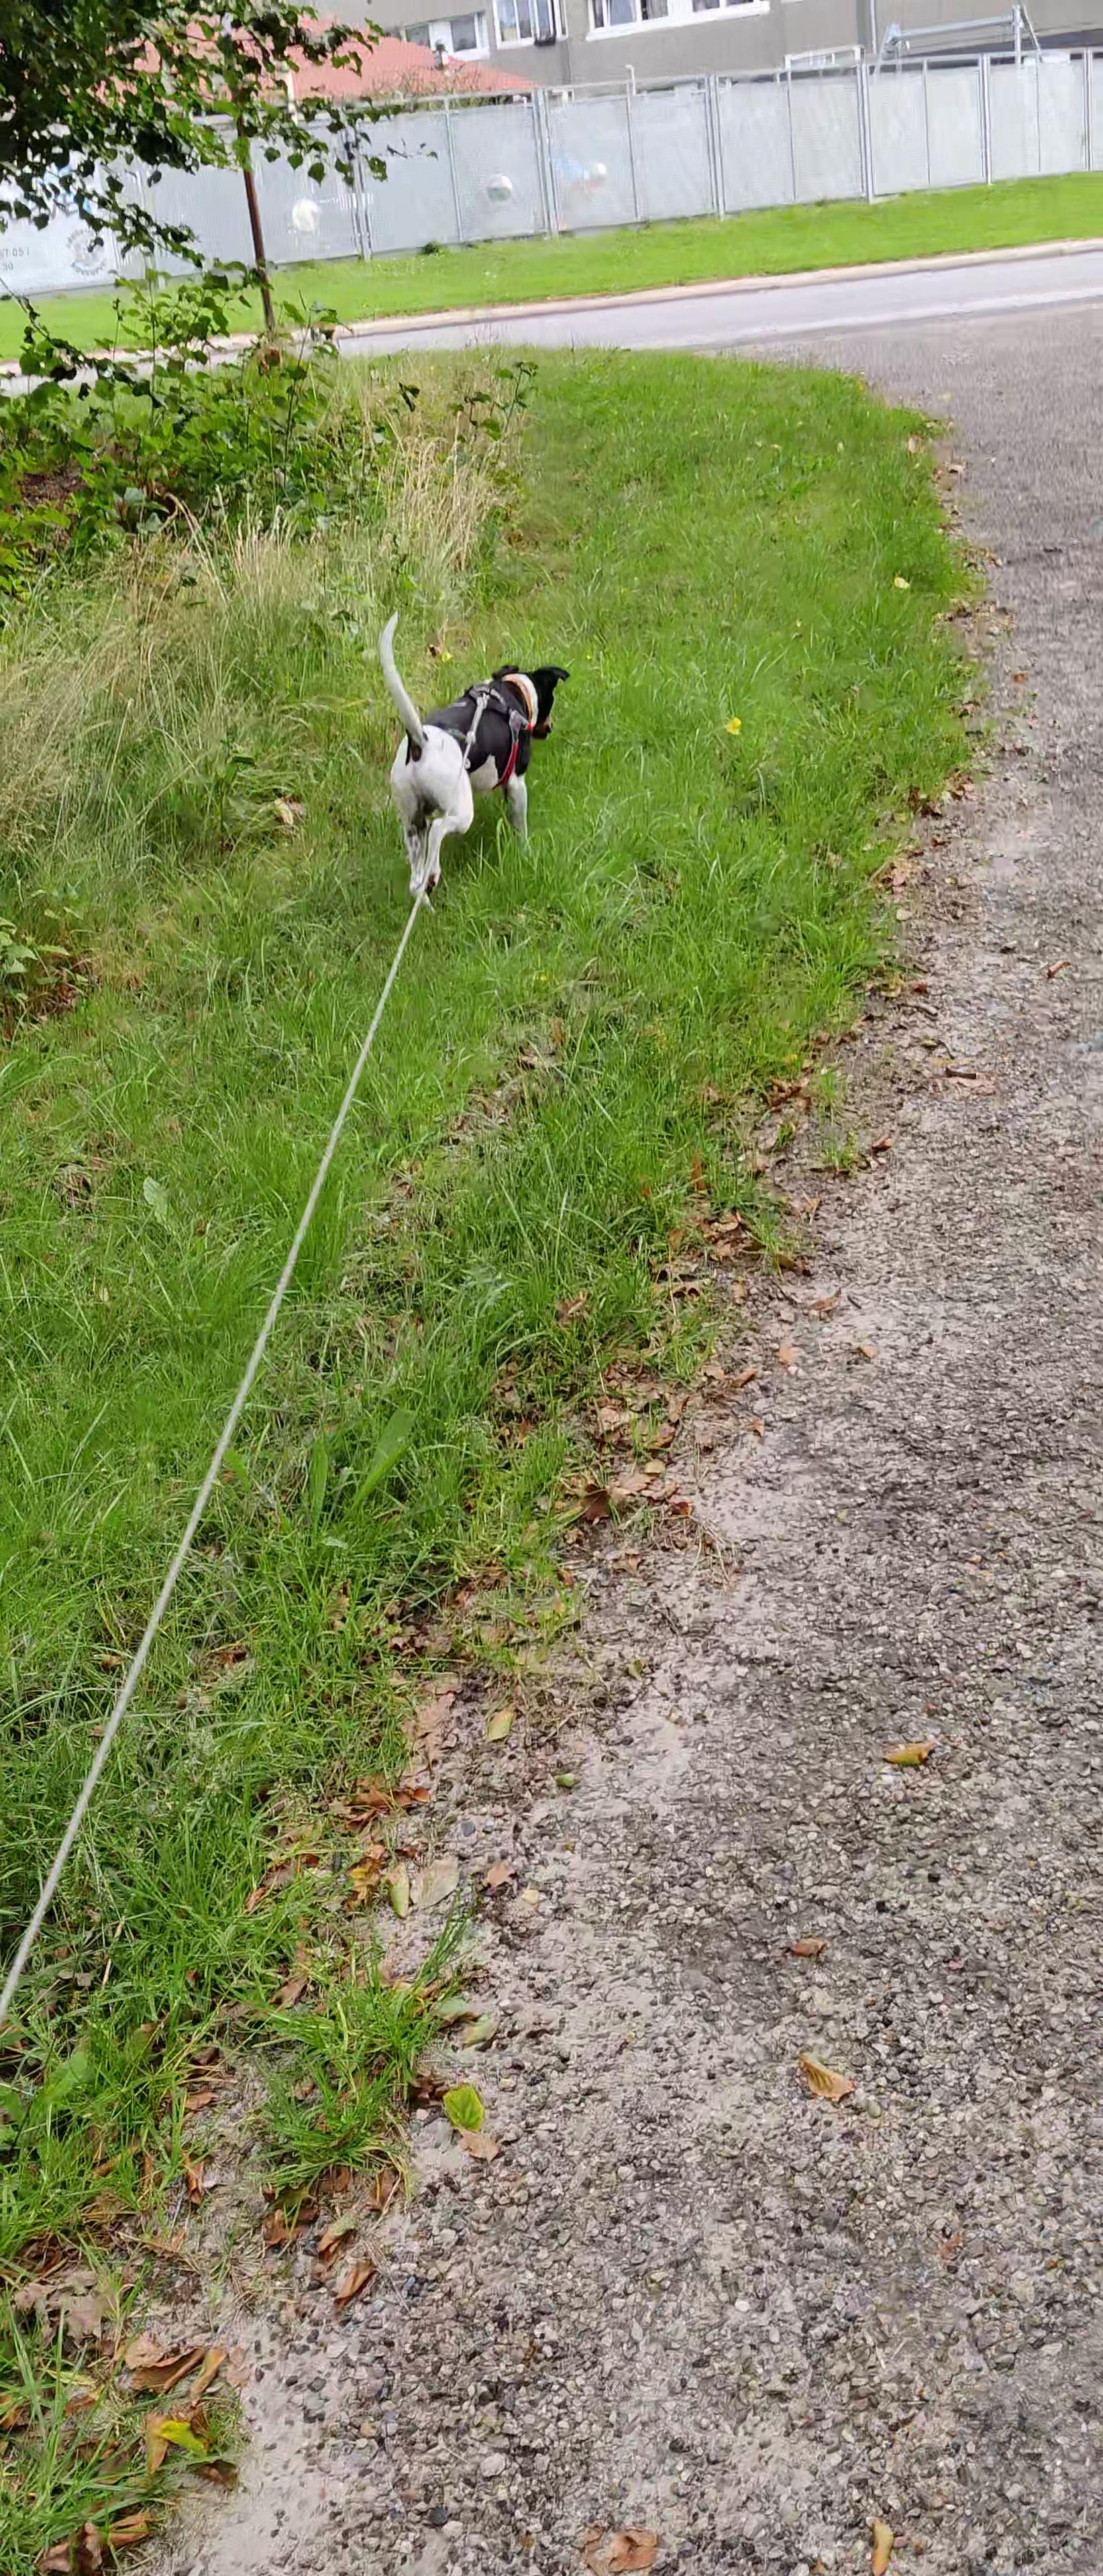Dog: (365, 605, 577, 922)
